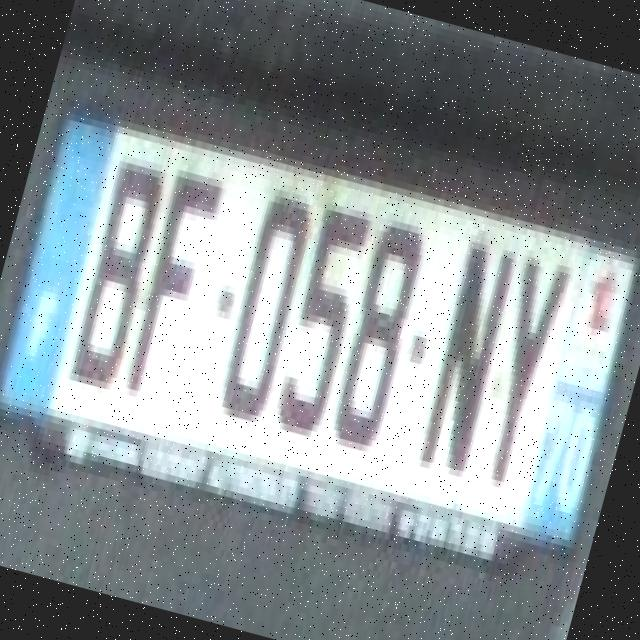EU: (0, 105, 640, 573)
France: (0, 116, 120, 428)
